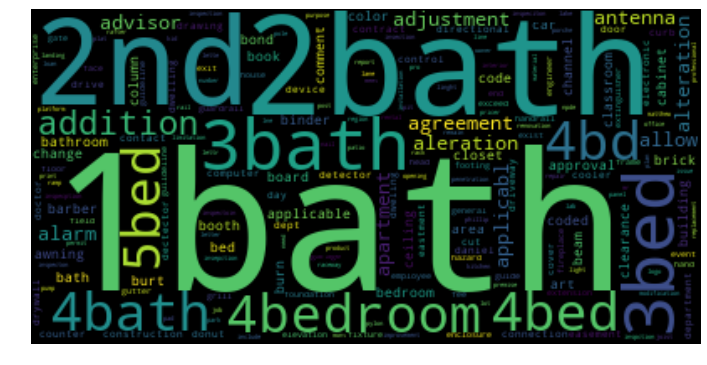

What the dashboard file says about the page in this screenshot:
{"tool":"tableau","page":{"name":"Dashboard 1","canvas":[1000,800],"ordinal":0},"visuals":[{"type":"text","box":[8,8,984,43]},{"type":"worksheet","title":"Sheet 1","mark":"Automatic","box":[8,51,984,686.2]}]}

Visuals, with their boxes in screenshot pixels (x1, y1, x2, y2):
text: bbox(30, 0, 505, 8)
"Sheet 1" worksheet: bbox(30, 8, 505, 340)
